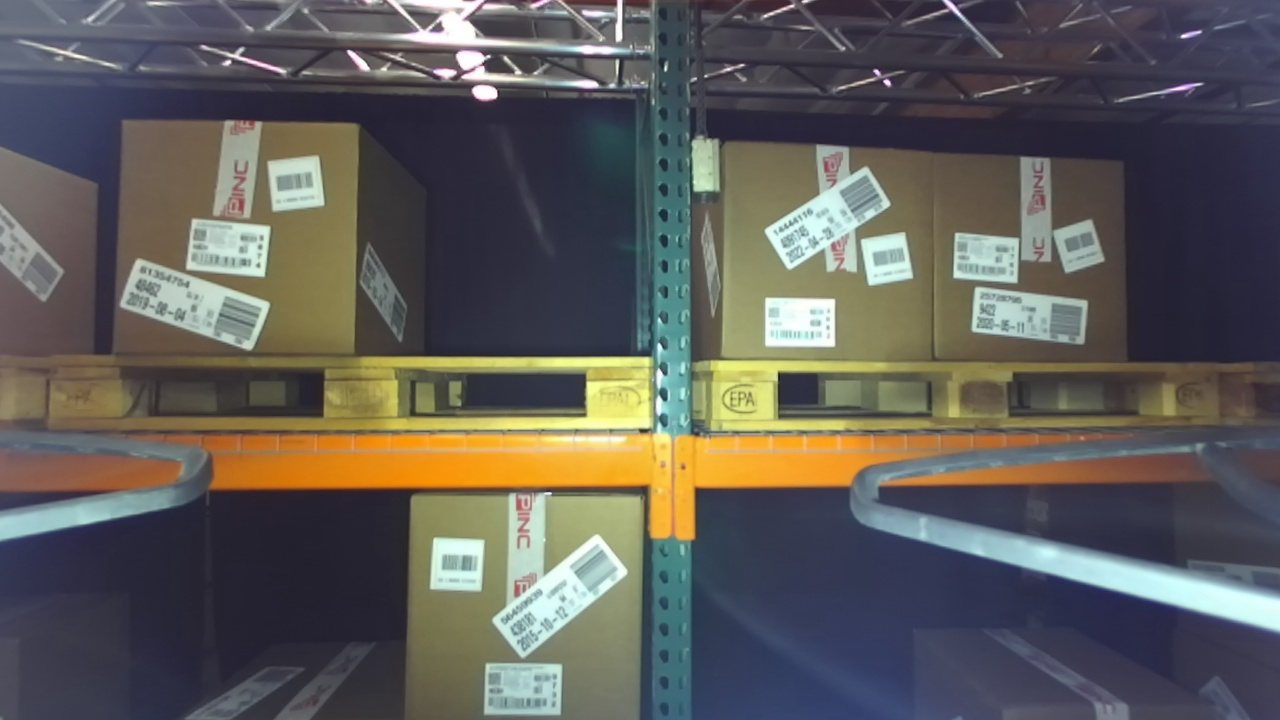box: (95, 90, 380, 383), (370, 476, 670, 720), (696, 117, 955, 384), (910, 110, 1152, 389)
